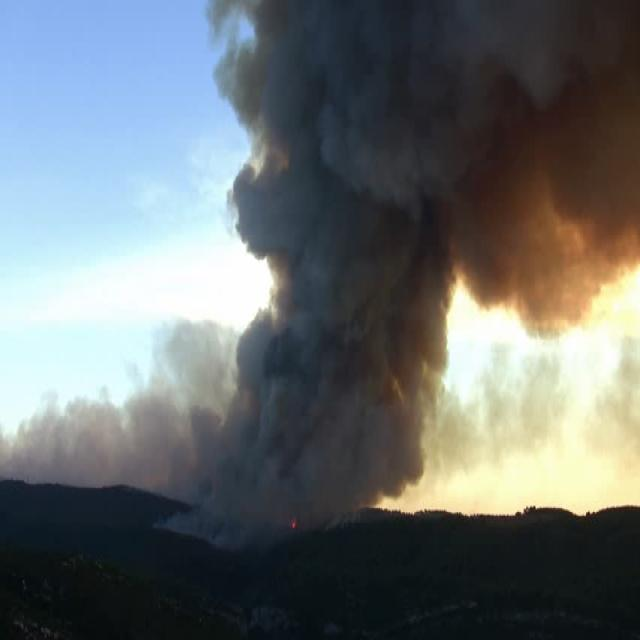Fire: (286, 518, 299, 530)
Smoke: (0, 0, 639, 505), (154, 508, 282, 548)
